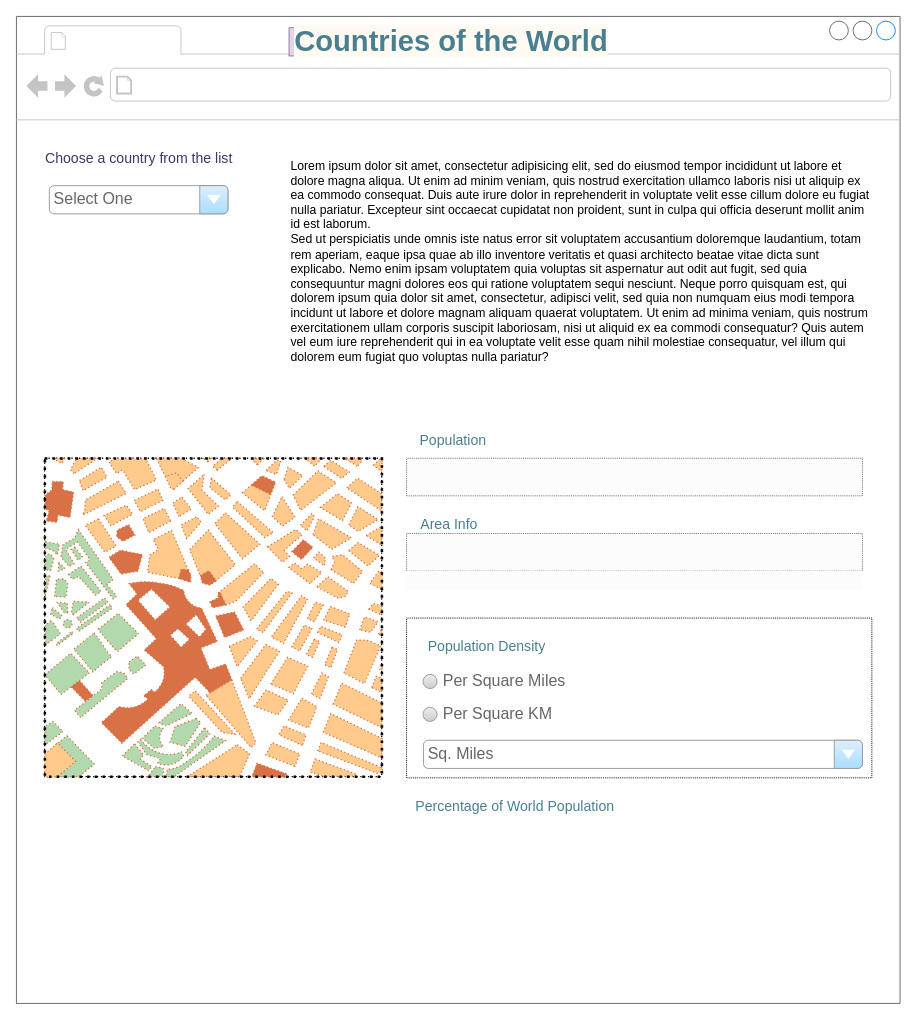
The diagram is 917 pixels wide and 1020 high, and some of its shapes have lost their labels. Here are the shapes that lost their labels. From the top down, the box of each, then its label:
(72, 27, 176, 52): Home Page
(138, 72, 374, 97): https://www.countriesoftheworld.com
